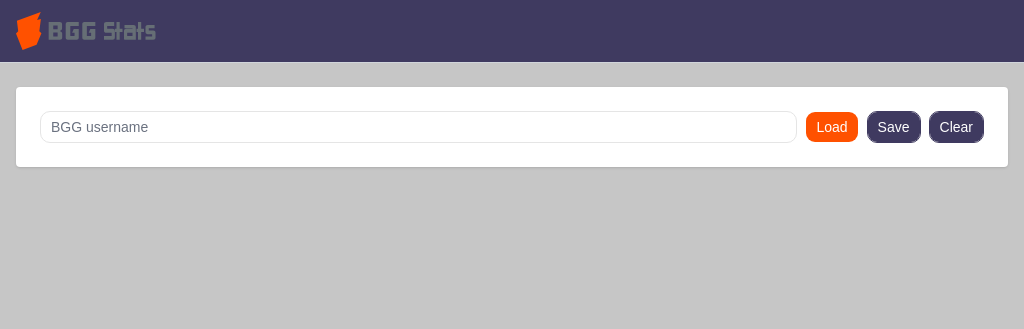
CollectionBrowser › not-found state › Given the username does not exist, When the response indicates not-found, Then a 'user not found' message is shown
Type "unknownuser" into the field at (419, 127), box [40,111,798,143]
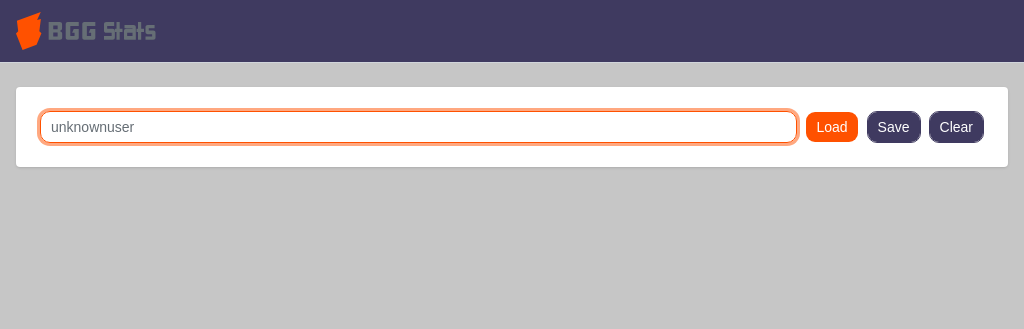
Click the button "Load" at (832, 127), box [806,111,859,143]
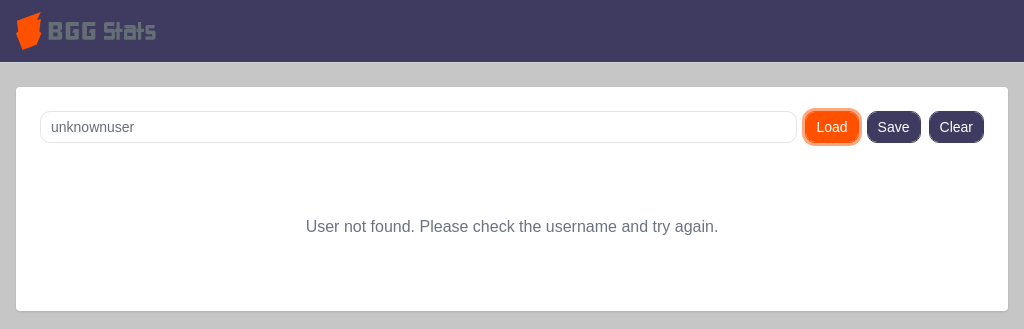
Expected: the text "User not found. Please check the username and try again." is shown, [306,218,718,235]
